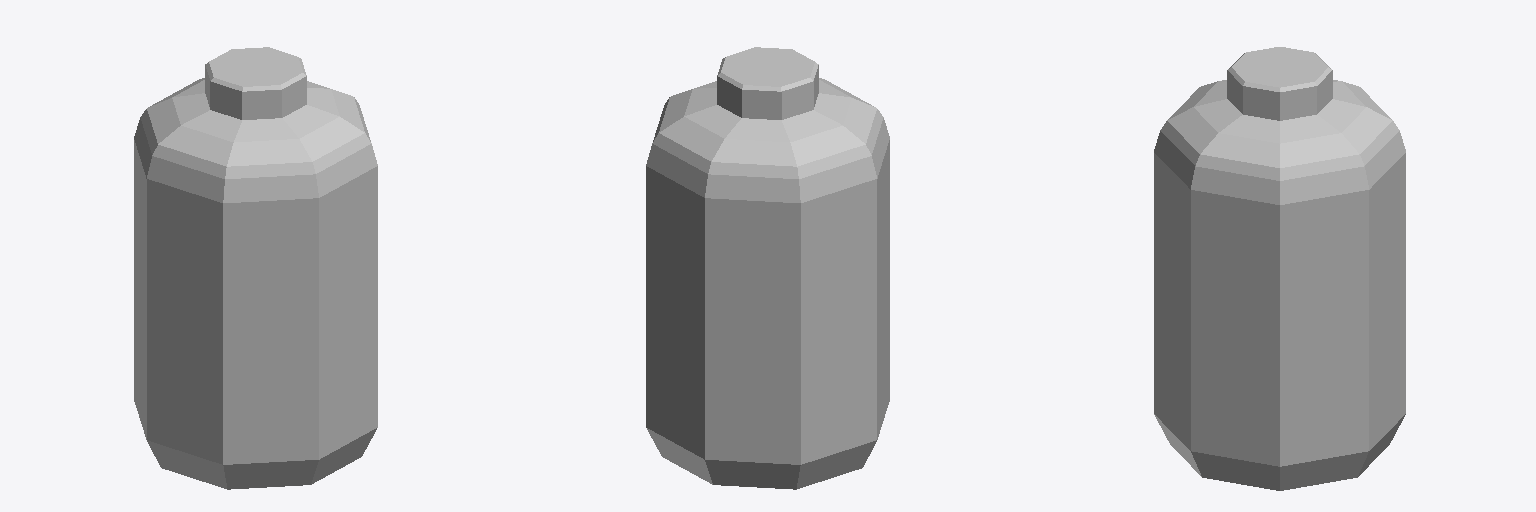
Rendered from vase.obj.
3 views of the same model, side by side, from view 1: azimuth 30°, elevation 25°; view 2: azimuth 150°, elevation 25°; view 3: azimuth 270°, elevation 25° (orthographic).
Parts seen in each view (by area): view 1: bottle2 Hall; view 2: bottle2 Hall; view 3: bottle2 Hall.
Boxes of the visible parts, x1,y1,x2,y2 form: bottle2 Hall: [134, 47, 377, 489]; bottle2 Hall: [646, 47, 889, 489]; bottle2 Hall: [1154, 47, 1405, 490].
Bounding box in the file's own units: 1.17 × 1.94 × 1.17.